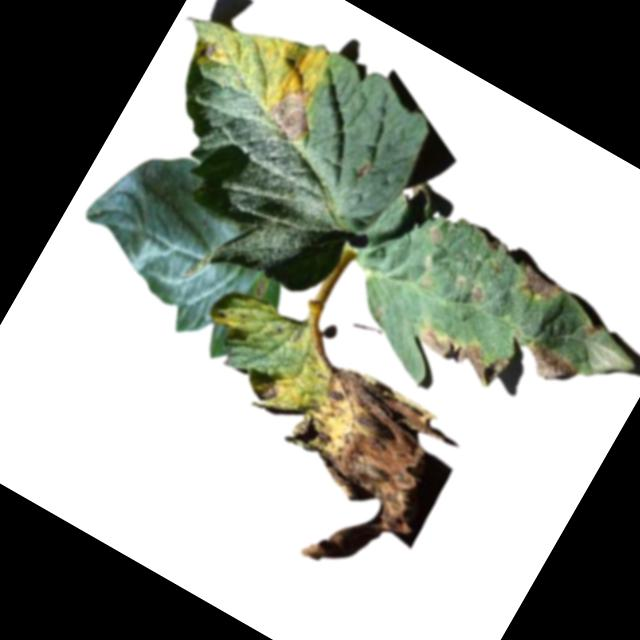Early_blight: (243, 357, 468, 597), (401, 307, 512, 393), (262, 73, 330, 148), (515, 335, 582, 394), (510, 262, 565, 310), (246, 367, 284, 406), (195, 32, 224, 63), (578, 319, 604, 344), (467, 282, 491, 306), (253, 276, 269, 295)
